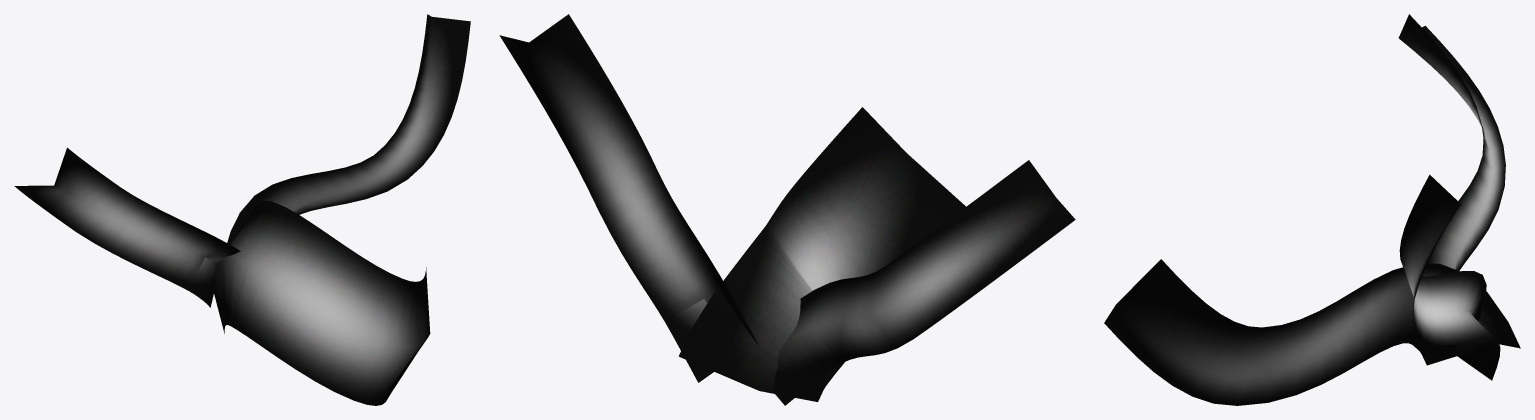
File: vfx_kurp_1180.dae
3 renders of one model, left to right at view 1: azimuth 30°, elevation 25°; view 2: azimuth 150°, elevation 25°; view 3: azimuth 270°, elevation 25°, orthographic. The views are drawn at different scales.
Visible parts, largest first — view 1: vfx_kurp_1180; view 2: vfx_kurp_1180; view 3: vfx_kurp_1180.
Part boxes in pixels (left/top/right/bottom): vfx_kurp_1180: left=14, top=14, right=470, bottom=405; vfx_kurp_1180: left=499, top=14, right=1075, bottom=405; vfx_kurp_1180: left=1104, top=14, right=1520, bottom=405.
Size of the model in its own units: 8.18 by 5.68 by 4.79.
1 material, 1 textured.
